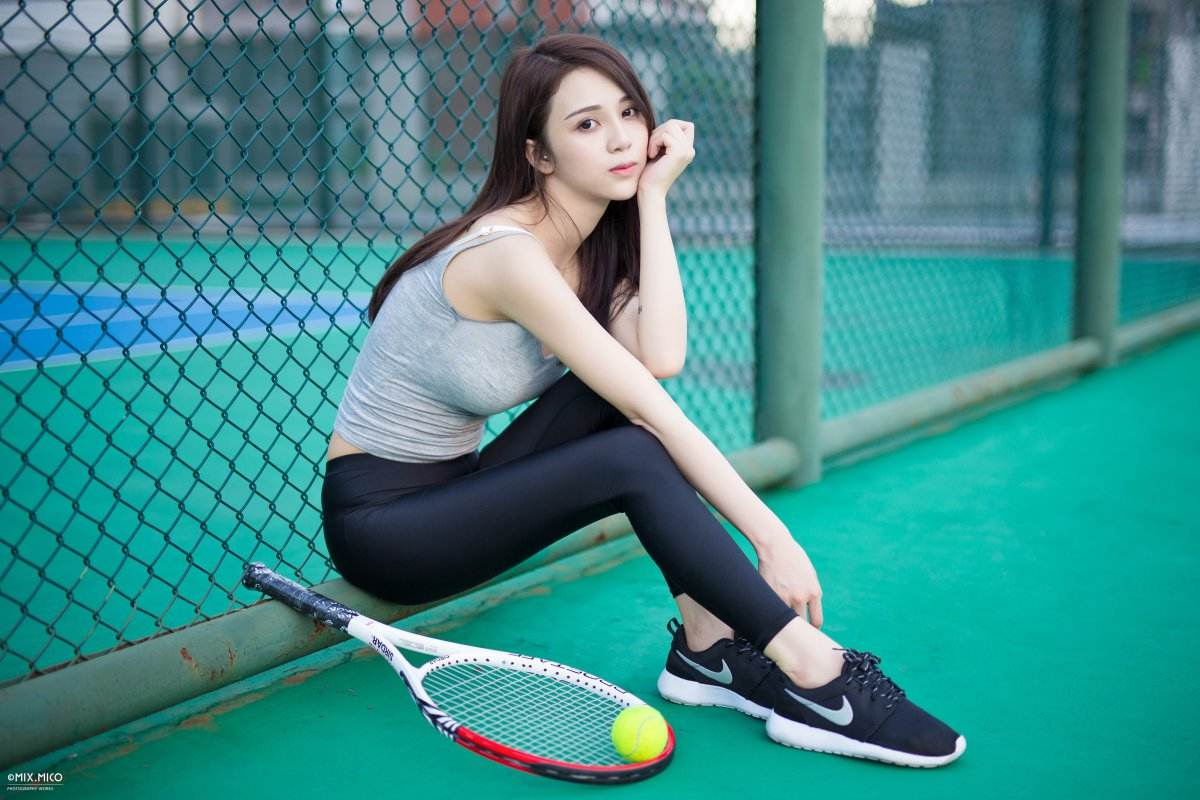person: (352, 49, 913, 648)
